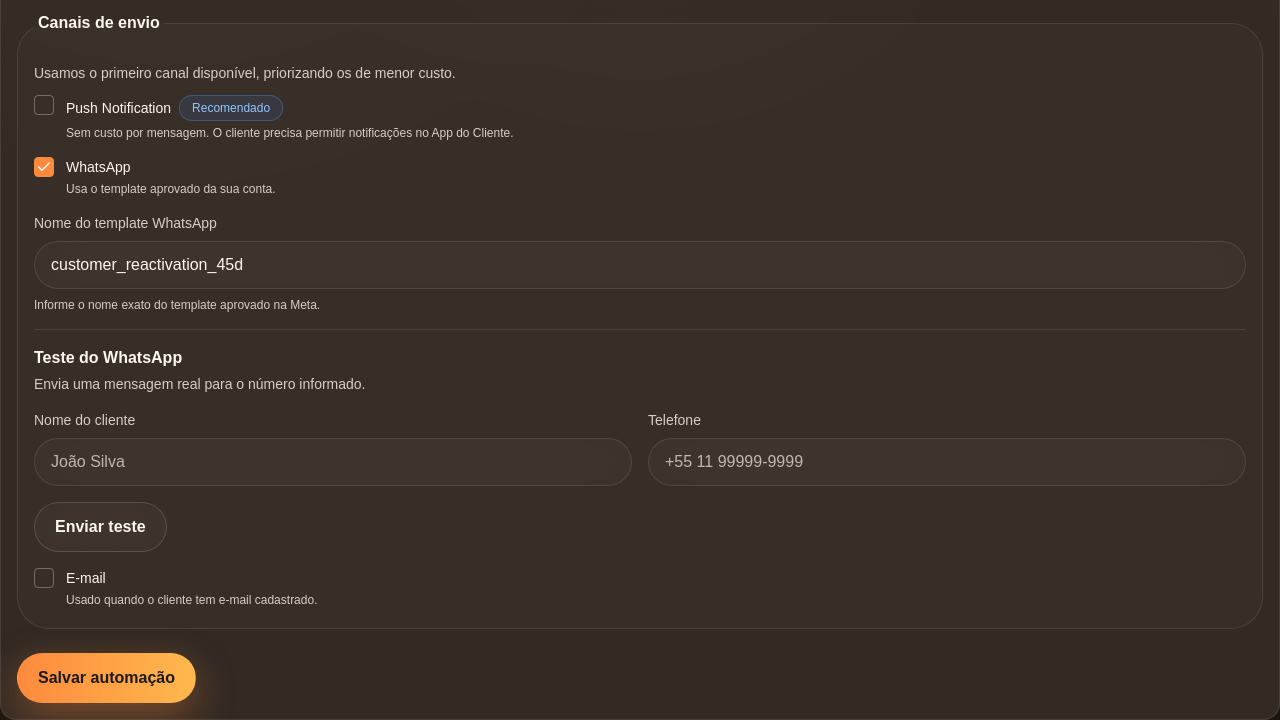
Test: CustomerReactivationConfig › sends the existing test through WhatsApp
(page scrolled)
Type "Joao Teste" into the field labelled "Nome do cliente" at [333, 462], box [34, 438, 632, 486]
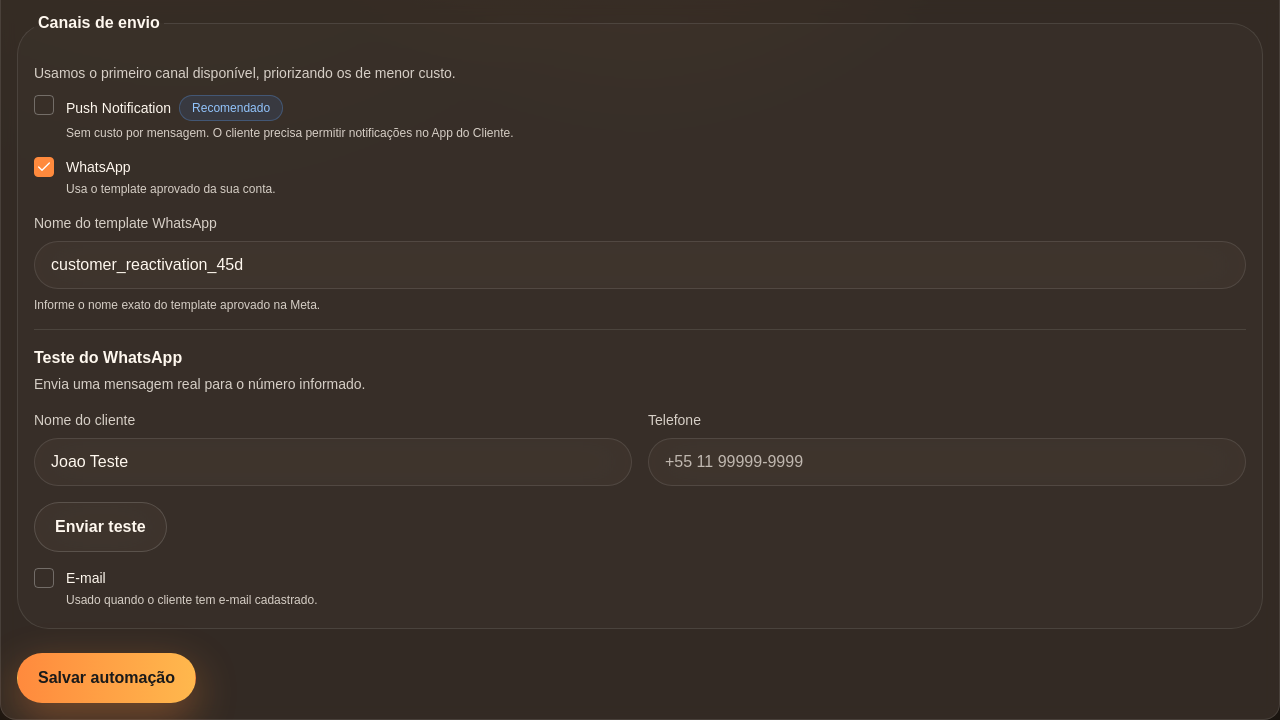
Type "+55 11 98888-7777" into the field labelled "Telefone" at [947, 462], box [648, 438, 1246, 486]
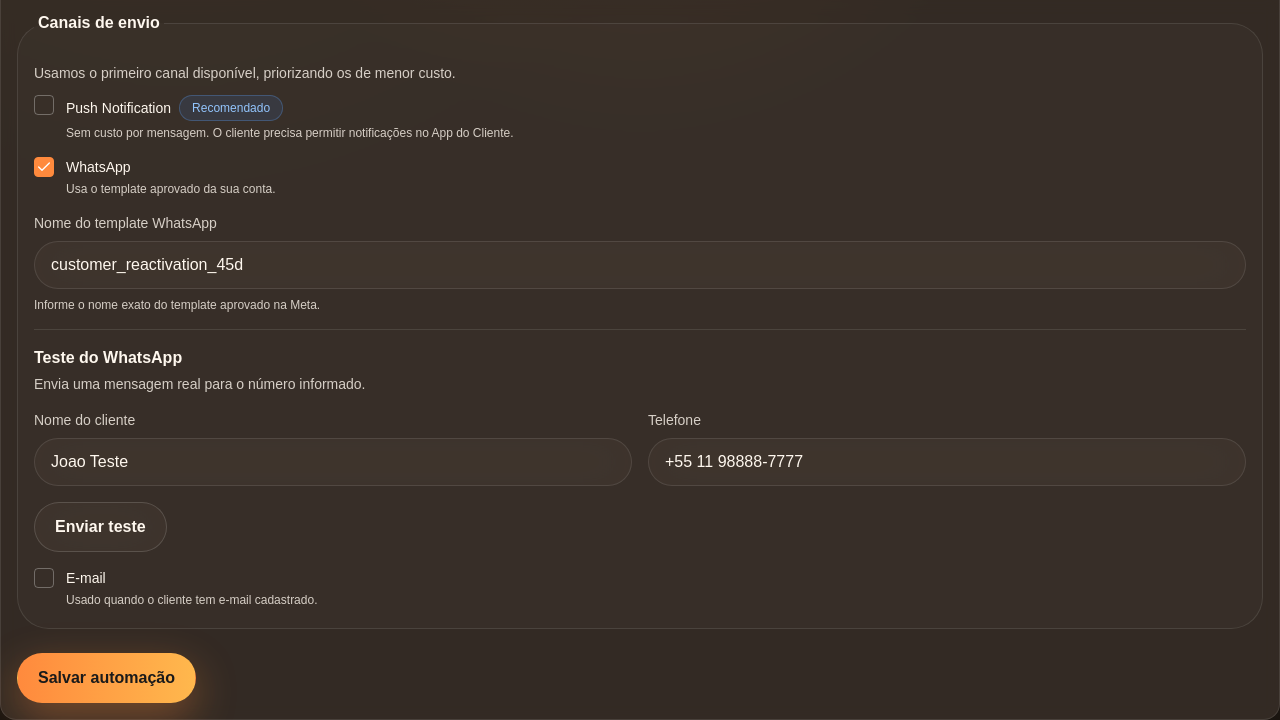
Click the button "Enviar teste" at [100, 527], box [34, 502, 167, 552]
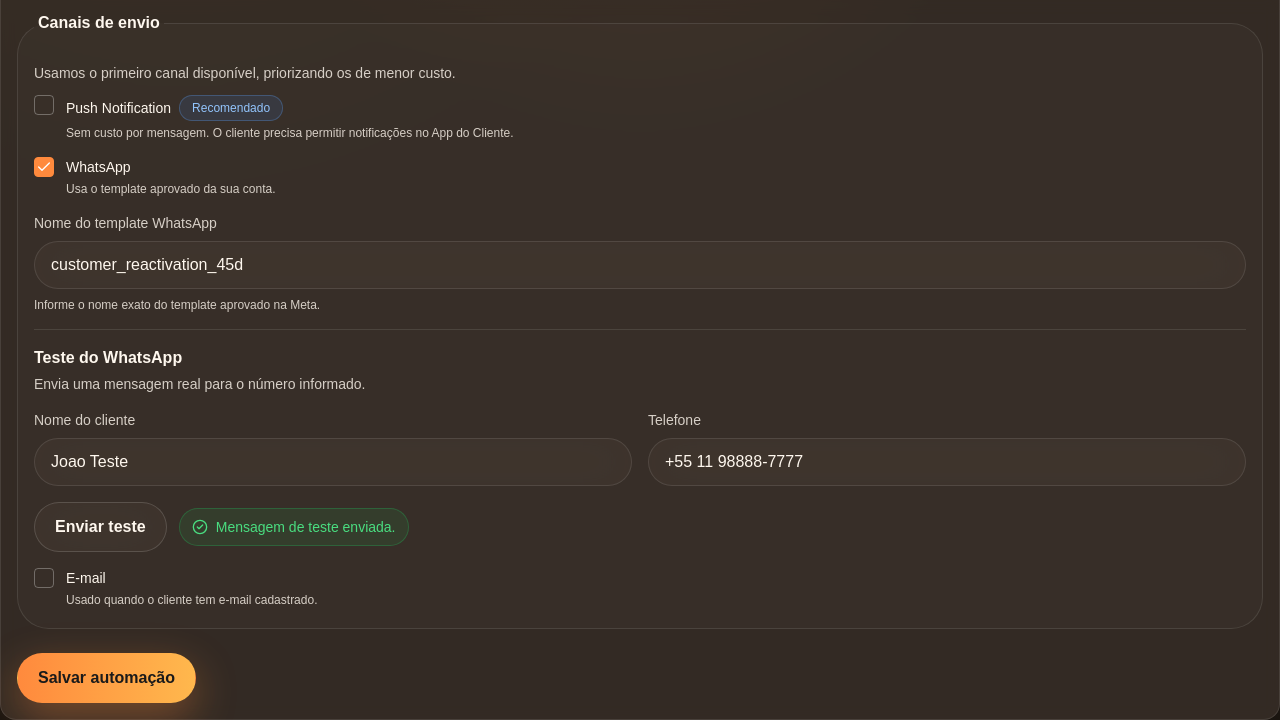
Now the text "Mensagem de teste enviada." is shown, box [179, 508, 408, 546]
